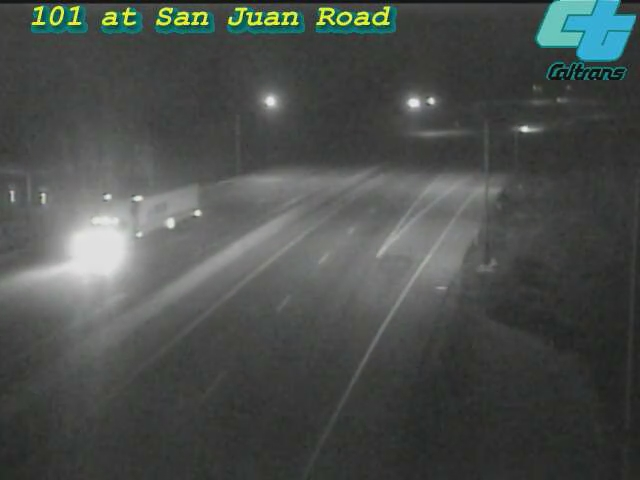vehicle: (93, 182, 173, 262), (500, 105, 550, 155)
